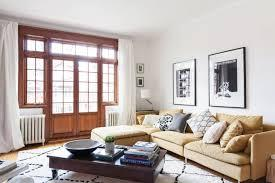chair: (6, 174, 34, 183)
door: (50, 38, 77, 135), (76, 36, 103, 128)
light: (140, 89, 158, 108)
sofa: (90, 109, 267, 176)
table: (43, 145, 170, 183), (12, 110, 49, 147), (0, 154, 30, 183)
